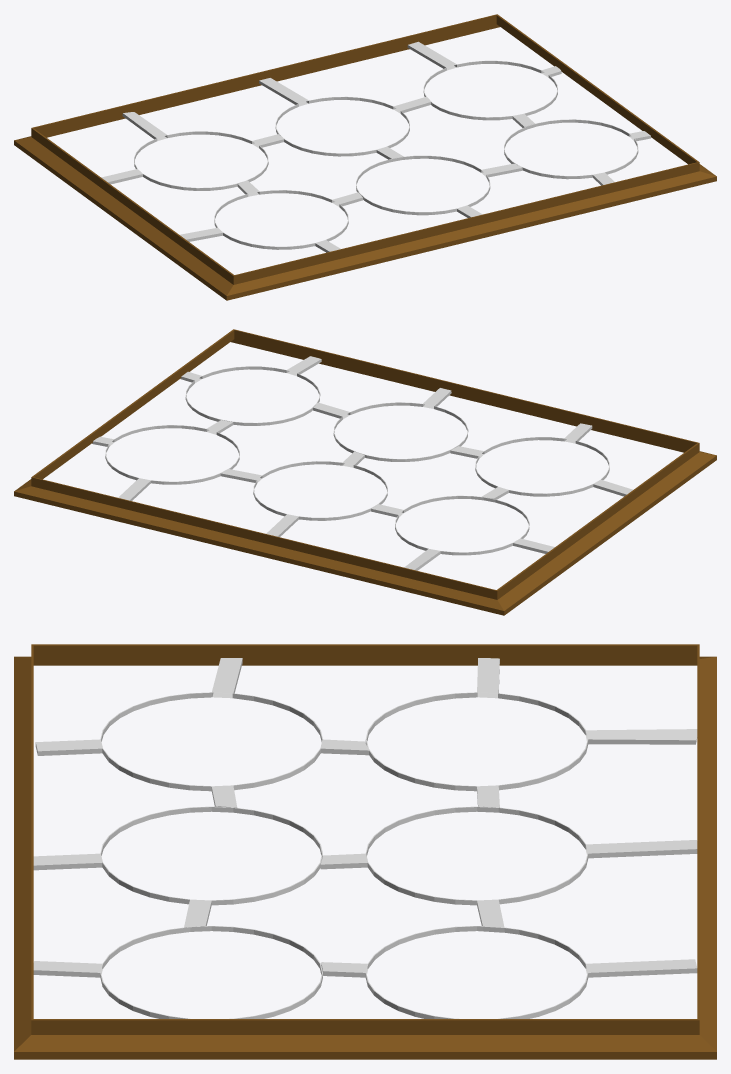
The model's file is Tempat Penyimpanan Telur.fbx.
3 views of the same model, one above another, from view 1: azimuth 30°, elevation 25°; view 2: azimuth 150°, elevation 25°; view 3: azimuth 270°, elevation 25° (orthographic). The views are drawn at different scales.
Parts seen in each view (by area): view 1: Cube, Cylinder.005, Cylinder.004, Cylinder, Cylinder.003, Cylinder.001, Cylinder.002; view 2: Cube, Cylinder, Cylinder.005, Cylinder.004, Cylinder.003, Cylinder.001, Cylinder.002; view 3: Cube, Cylinder.004, Cylinder.005, Cylinder, Cylinder.003, Cylinder.001, Cylinder.002.
Boxes of the visible parts, x1,y1,x2,y2 form: Cube: (14,14,716,300); Cylinder.005: (101,112,283,190); Cylinder.004: (259,78,431,159); Cylinder: (179,180,362,252); Cylinder.003: (407,41,561,127); Cylinder.001: (356,155,522,217); Cylinder.002: (504,119,650,185); Cube: (14,329,716,615); Cylinder: (450,423,633,499); Cylinder.005: (371,495,554,570); Cylinder.004: (220,451,387,537); Cylinder.003: (92,420,239,500); Cylinder.001: (313,388,468,461); Cylinder.002: (180,356,321,425); Cube: (14,644,716,1059); Cylinder.004: (320,806,697,932); Cylinder.005: (365,658,697,807); Cylinder: (35,658,368,807); Cylinder.003: (321,926,697,1018); Cylinder.001: (33,806,322,927); Cylinder.002: (33,926,322,1018).
Bounding box in the file's own units: 210 × 7.37 × 158.
